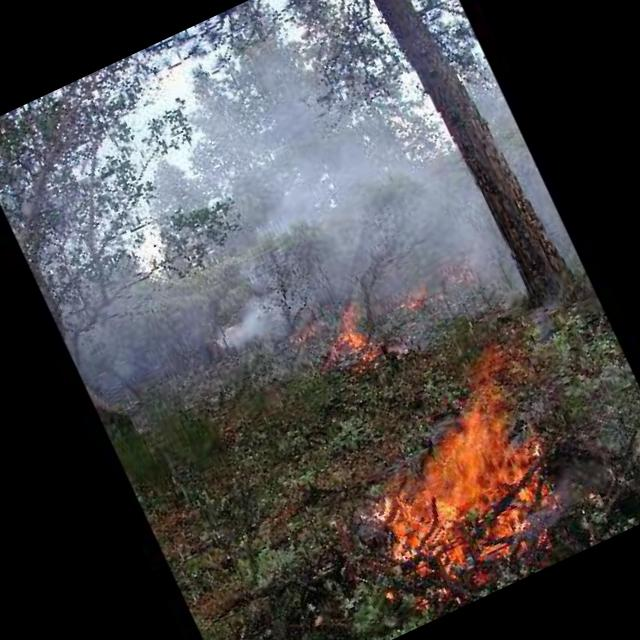fire: (359, 379, 583, 596), (313, 302, 384, 384)
smoke: (218, 76, 492, 327), (192, 272, 292, 366), (502, 276, 578, 356)
